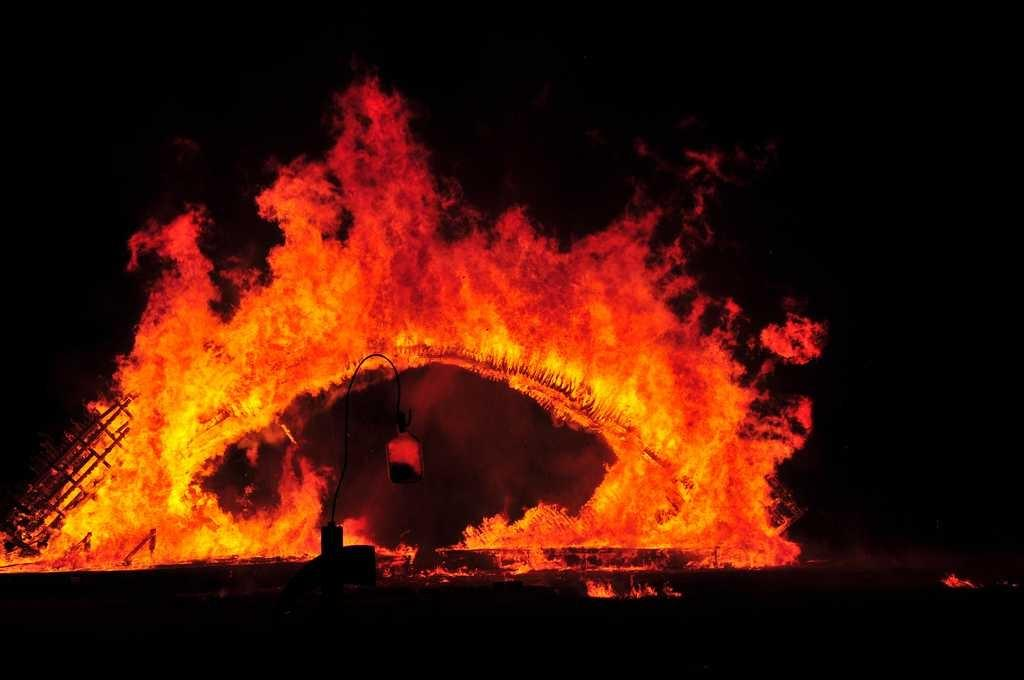fire: (485, 252, 640, 357), (158, 320, 315, 405), (123, 418, 208, 550), (630, 462, 760, 545), (323, 280, 465, 345), (622, 375, 747, 448)
